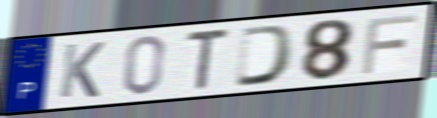0: (121, 34, 168, 97)
8: (298, 17, 356, 83)
D: (232, 22, 298, 89)
F: (359, 12, 419, 76)
K: (56, 40, 107, 101)
T: (184, 27, 233, 93)
